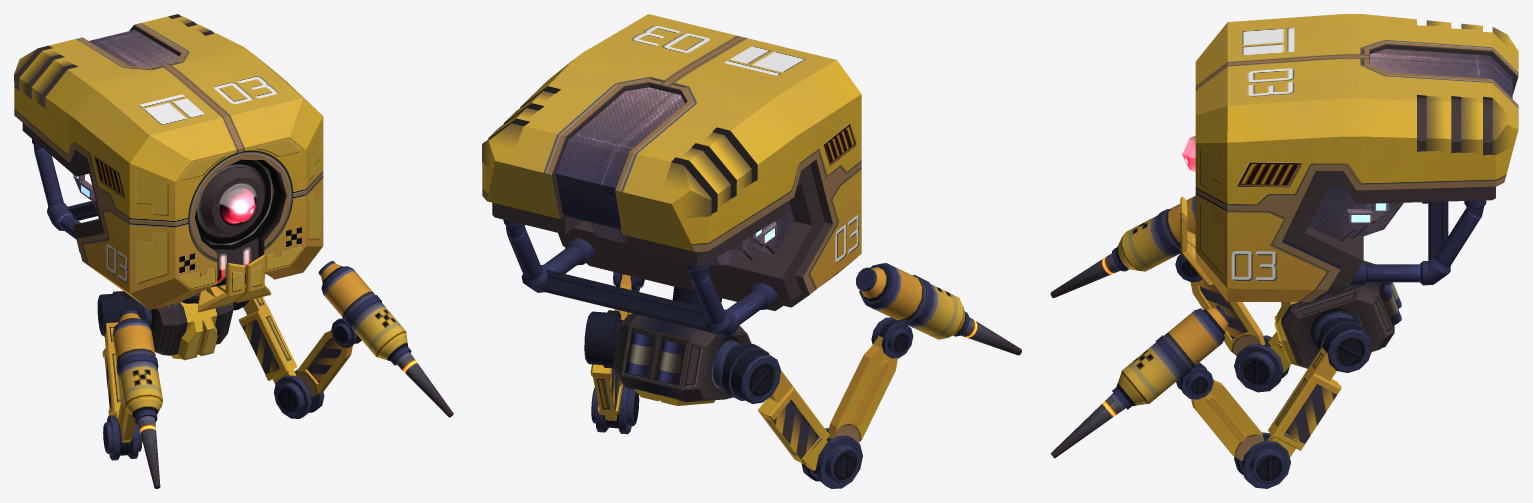
The model's file is utility-robot.glb.
3 views of the same model, side by side, from view 1: azimuth 30°, elevation 25°; view 2: azimuth 150°, elevation 25°; view 3: azimuth 270°, elevation 25° (orthographic). The views are drawn at different scales.
Parts seen in each view (by area): view 1: Utility Robot, Utility Robot.007, Utility Robot.012, Utility Robot.002, Utility Robot.003, Utility Robot.008, Utility Robot.016, Utility Robot.005, Utility Robot.004, Utility Robot.018, Utility Robot.009, Utility Robot.017 (+2 smaller); view 2: Utility Robot, Utility Robot.016, Utility Robot.002, Utility Robot.008, Utility Robot.012, Utility Robot.010, Utility Robot.003, Utility Robot.009, Utility Robot.013, Utility Robot.004, Utility Robot.011; view 3: Utility Robot, Utility Robot.007, Utility Robot.003, Utility Robot.002, Utility Robot.012, Utility Robot.016, Utility Robot.005, Utility Robot.013, Utility Robot.010, Utility Robot.004, Utility Robot.009, Utility Robot.006 (+2 smaller).
Part boxes in pixels (x1=…): Utility Robot: x1=14, y1=14, x2=323, y2=309; Utility Robot.007: x1=318, y1=261, x2=453, y2=417; Utility Robot.012: x1=112, y1=310, x2=162, y2=488; Utility Robot.002: x1=123, y1=284, x2=233, y2=360; Utility Robot.003: x1=223, y1=279, x2=297, y2=384; Utility Robot.008: x1=97, y1=291, x2=151, y2=418; Utility Robot.016: x1=32, y1=139, x2=97, y2=239; Utility Robot.005: x1=296, y1=330, x2=352, y2=397; Utility Robot.004: x1=274, y1=370, x2=324, y2=418; Utility Robot.018: x1=197, y1=263, x2=244, y2=312; Utility Robot.009: x1=103, y1=415, x2=142, y2=460; Utility Robot.017: x1=219, y1=254, x2=271, y2=302; Utility Robot: x1=482, y1=14, x2=861, y2=310; Utility Robot.016: x1=503, y1=219, x2=778, y2=337; Utility Robot.002: x1=612, y1=313, x2=751, y2=405; Utility Robot.008: x1=713, y1=340, x2=829, y2=470; Utility Robot.012: x1=856, y1=263, x2=1021, y2=355; Utility Robot.010: x1=828, y1=336, x2=897, y2=442; Utility Robot.003: x1=584, y1=310, x2=623, y2=420; Utility Robot.009: x1=801, y1=428, x2=862, y2=488; Utility Robot.013: x1=590, y1=204, x2=794, y2=266; Utility Robot.004: x1=591, y1=385, x2=639, y2=434; Utility Robot.011: x1=871, y1=317, x2=913, y2=358; Utility Robot: x1=1182, y1=14, x2=1518, y2=301; Utility Robot.007: x1=1050, y1=305, x2=1231, y2=458; Utility Robot.003: x1=1267, y1=312, x2=1372, y2=457; Utility Robot.002: x1=1274, y1=260, x2=1401, y2=368; Utility Robot.012: x1=1050, y1=195, x2=1195, y2=297; Utility Robot.016: x1=1349, y1=200, x2=1486, y2=285; Utility Robot.005: x1=1191, y1=379, x2=1264, y2=461; Utility Robot.013: x1=1308, y1=186, x2=1403, y2=241; Utility Robot.010: x1=1190, y1=279, x2=1265, y2=355; Utility Robot.004: x1=1234, y1=432, x2=1290, y2=488; Utility Robot.009: x1=1234, y1=335, x2=1289, y2=392; Utility Robot.006: x1=1176, y1=362, x2=1213, y2=399.
Bounding box in the file's own units: 45.76 × 49.35 × 55.28.
1 material, 1 textured.
